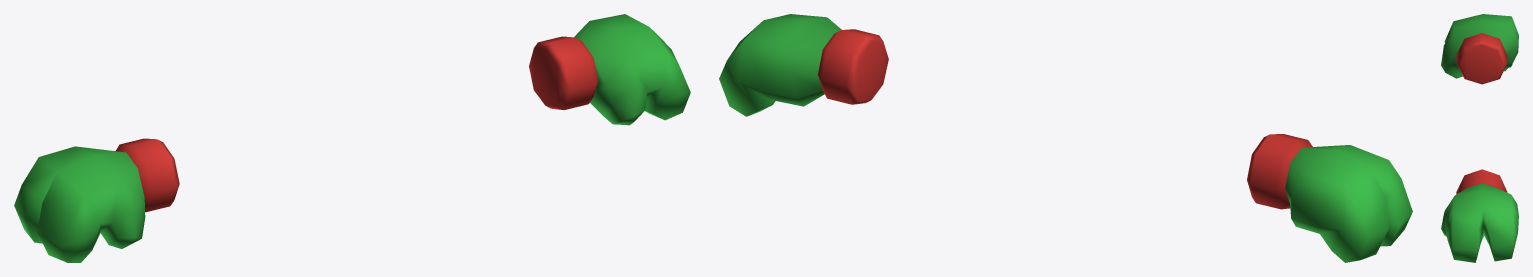
Rendered from Glove_12.fbx.
3 views of the same model, side by side, from view 1: azimuth 30°, elevation 25°; view 2: azimuth 150°, elevation 25°; view 3: azimuth 270°, elevation 25° (orthographic). The views are drawn at different scales.
Parts seen in each view (by area): view 1: Glove_12; view 2: Glove_12; view 3: Glove_12.
Boxes of the visible parts, left/top/right/bottom form: Glove_12: left=14, top=14, right=690, bottom=262; Glove_12: left=719, top=14, right=1412, bottom=262; Glove_12: left=1441, top=14, right=1518, bottom=262.
Size of the model in its own units: 135 by 18.21 by 21.27.
